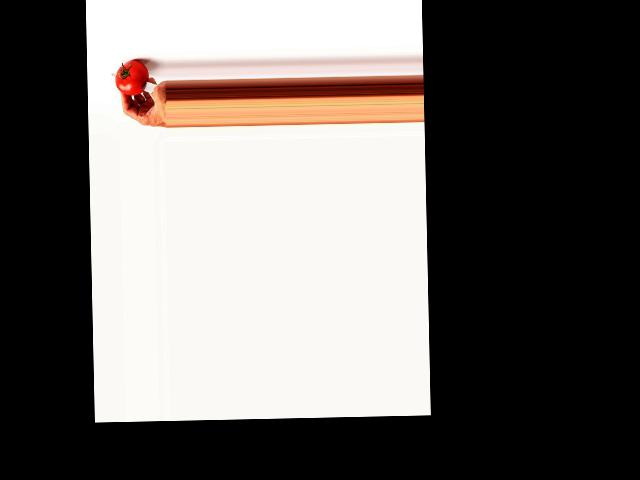tomato: (115, 60, 148, 96)
